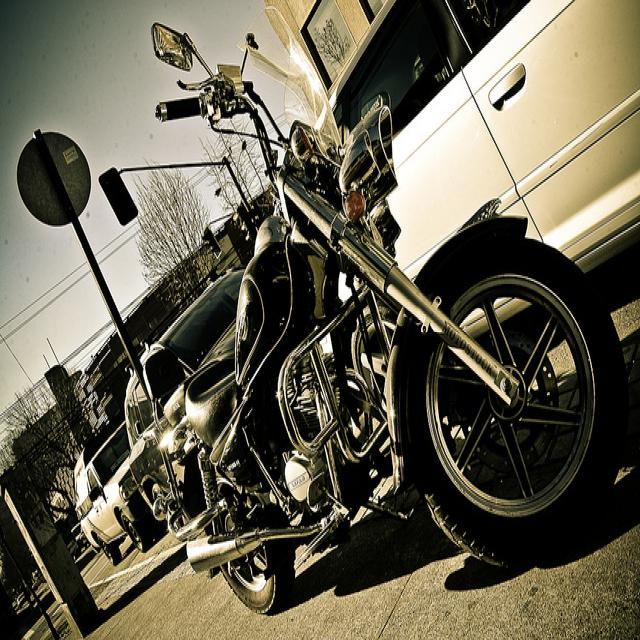motor: (143, 24, 628, 614)
